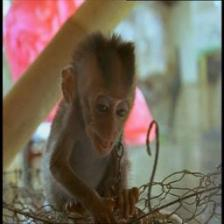monkey: (55, 23, 151, 165)
